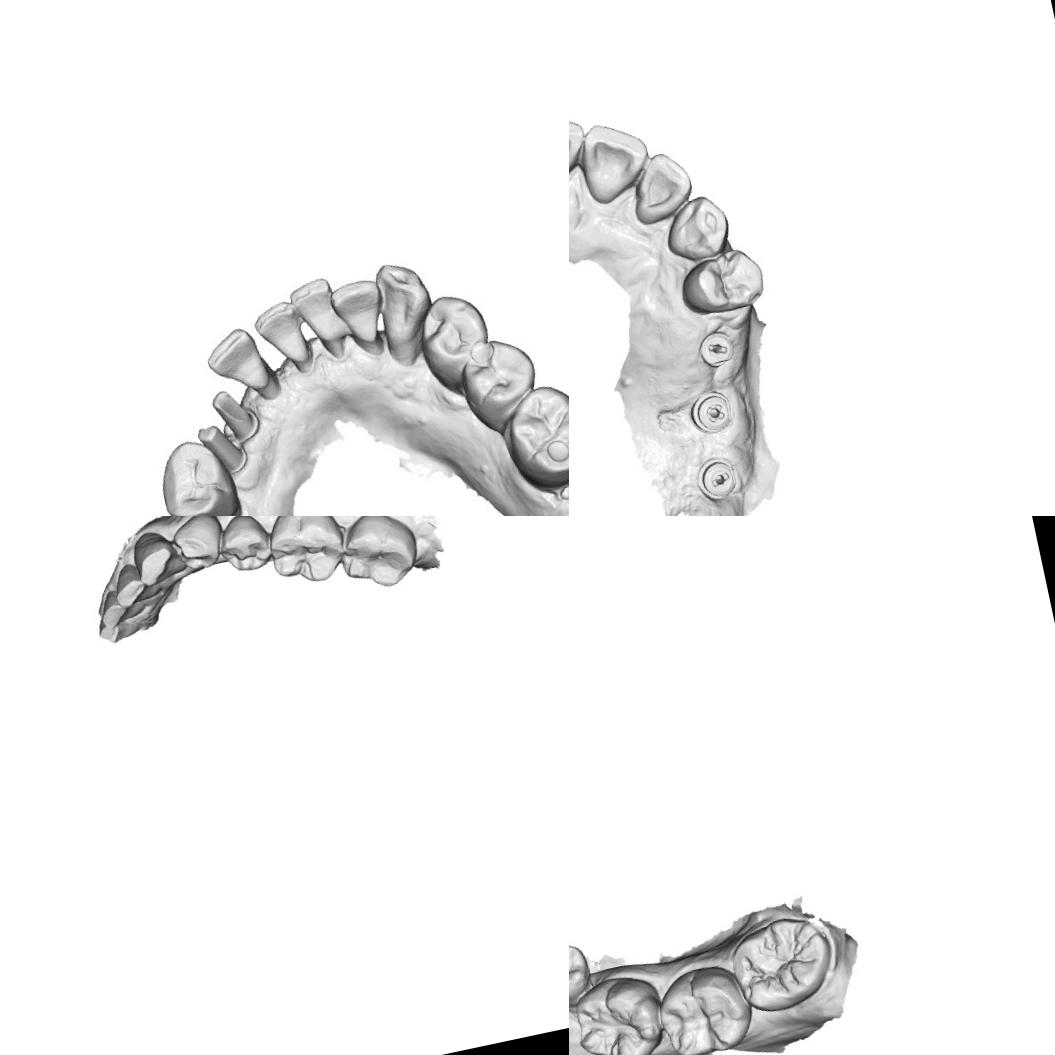abutment: (188, 411, 255, 487), (206, 375, 266, 450)
canine: (371, 256, 442, 370), (658, 190, 736, 268), (127, 524, 182, 590)
implant_minus: (693, 453, 744, 504), (694, 331, 739, 375)
implant_plus: (692, 390, 736, 431)
incisor: (572, 112, 660, 207), (197, 319, 280, 408), (621, 144, 700, 230), (327, 278, 395, 361), (248, 296, 314, 376), (288, 277, 350, 362), (569, 105, 593, 200), (107, 558, 150, 611), (93, 584, 134, 630)
molar: (722, 907, 842, 1018), (648, 958, 755, 1055), (495, 374, 569, 498), (569, 970, 671, 1055), (330, 516, 426, 596), (259, 516, 352, 592)
premolar: (448, 330, 544, 439), (406, 288, 498, 394), (150, 429, 248, 516), (670, 242, 771, 322), (211, 516, 279, 578), (165, 516, 229, 575), (569, 934, 594, 1004)
